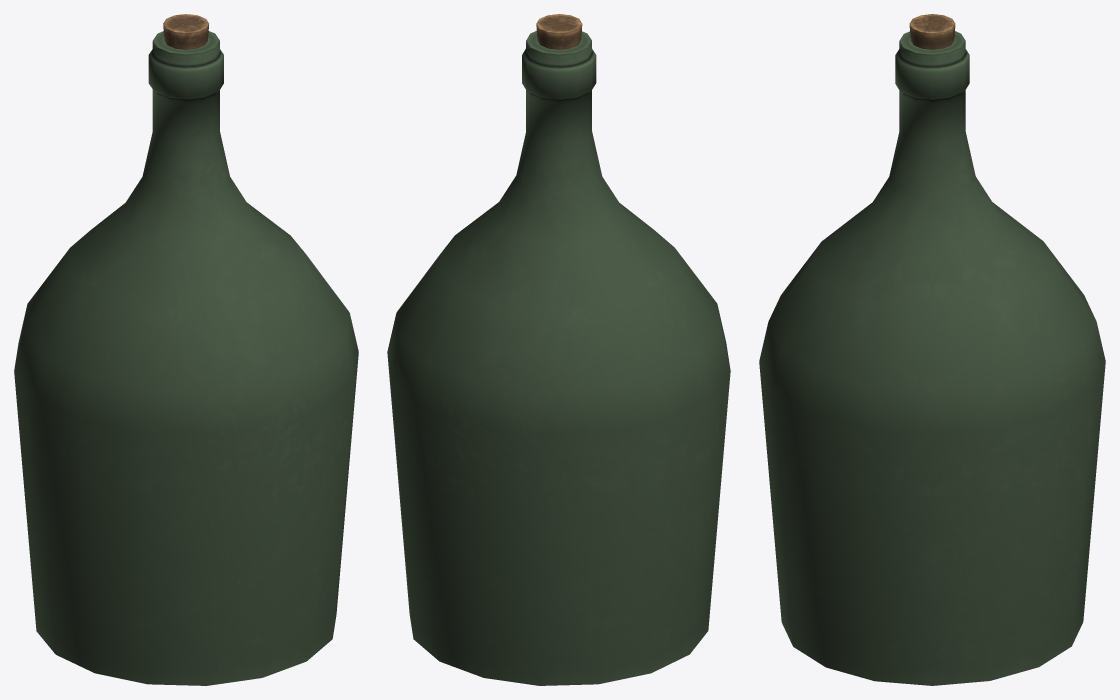
File: LOD0_bigBottle_closed.fbx
The picture shows the model from 3 angles, left to right: view 1: azimuth 30°, elevation 25°; view 2: azimuth 150°, elevation 25°; view 3: azimuth 270°, elevation 25°; orthographic projection.
Parts seen in each view (by area): view 1: LOD0_bigBottle_closed; view 2: LOD0_bigBottle_closed; view 3: LOD0_bigBottle_closed.
Boxes of the visible parts, bbox=[...] form: LOD0_bigBottle_closed: bbox=[14, 14, 358, 685]; LOD0_bigBottle_closed: bbox=[387, 14, 730, 685]; LOD0_bigBottle_closed: bbox=[759, 14, 1105, 685].
Size of the model in its own units: 0.2174 by 0.4141 by 0.2174.
